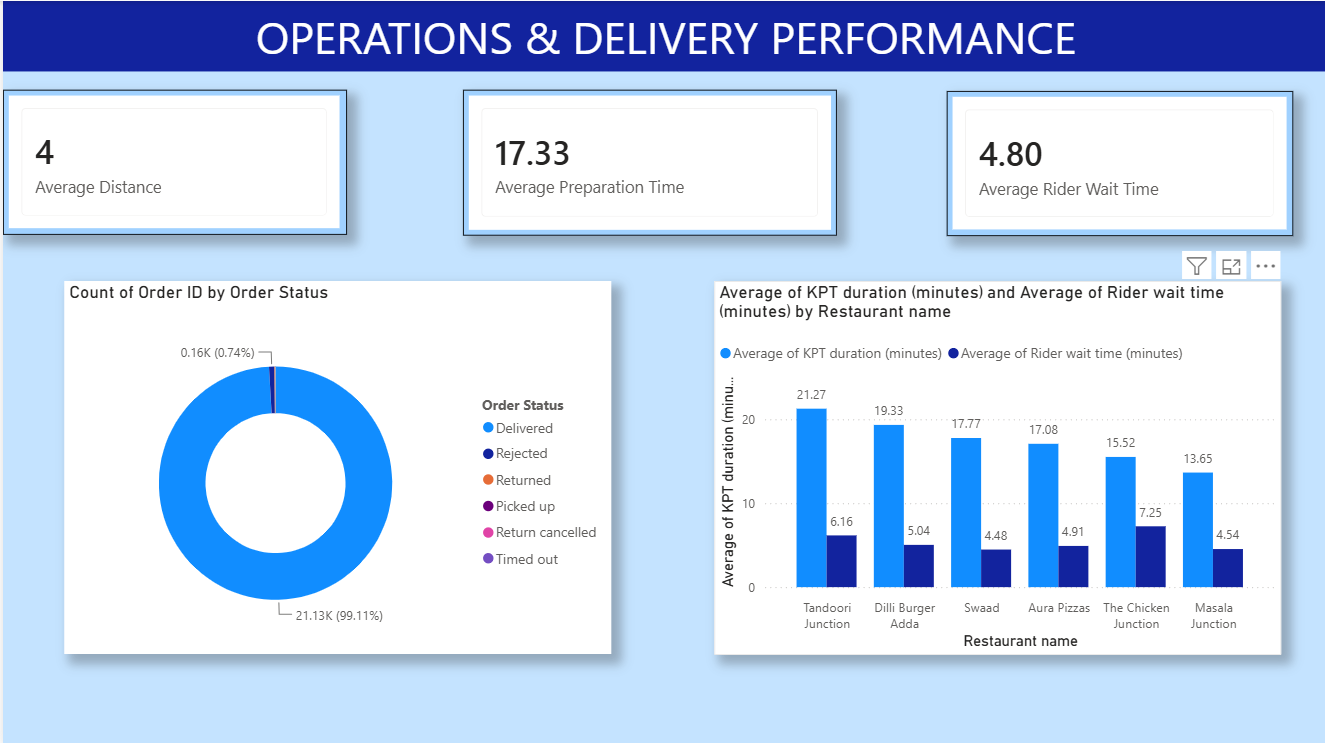

What the dashboard file says about the page in this screenshot:
{"tool":"powerbi","page":{"name":"OPERATIONS AND DELIVERY","canvas":[1280,720],"ordinal":1},"visuals":[{"type":"cardVisual","fields":{"Data":["order_history_kaggle_data.Average Distance"]},"box":[0,85.9,331.8,140],"z":0},{"type":"cardVisual","fields":{"Data":["order_history_kaggle_data.Average Preparation Time"]},"box":[443.5,85.9,361.2,141.2],"z":1000},{"type":"cardVisual","fields":{"Data":["order_history_kaggle_data.Average Rider Wait Time"]},"box":[910.6,87.1,334.1,140],"z":2000},{"type":"clusteredColumnChart","fields":{"Y":["Avg(order_history_kaggle_data.KPT duration (minutes))","Avg(order_history_kaggle_data.Rider wait time (minutes))"],"Category":["order_history_kaggle_data.Restaurant name"]},"box":[687.1,270.6,547.1,360],"z":3000},{"type":"donutChart","fields":{"Y":["CountNonNull(order_history_kaggle_data.Order ID)"],"Category":["order_history_kaggle_data.Order Status"]},"box":[58.8,270.6,528.2,360],"z":4000},{"type":"textbox","box":[0,0,1280,68.2],"z":5000}]}

Visuals, with their boxes in screenshot pixels (x1, y1, x2, y2), scaled from the page's 1280x720 canvas onto the 1325x743 screenshot:
cardVisual - order_history_kaggle_data.Average Distance: 0/89/343/233
cardVisual - order_history_kaggle_data.Average Preparation Time: 459/89/833/234
cardVisual - order_history_kaggle_data.Average Rider Wait Time: 943/90/1288/234
clusteredColumnChart - Avg(order_history_kaggle_data.KPT duration (minutes)) x Avg(order_history_kaggle_data.Rider wait time (minutes)): 711/279/1278/651
donutChart - CountNonNull(order_history_kaggle_data.Order ID) x order_history_kaggle_data.Order Status: 61/279/608/651
textbox: 0/0/1324/70
